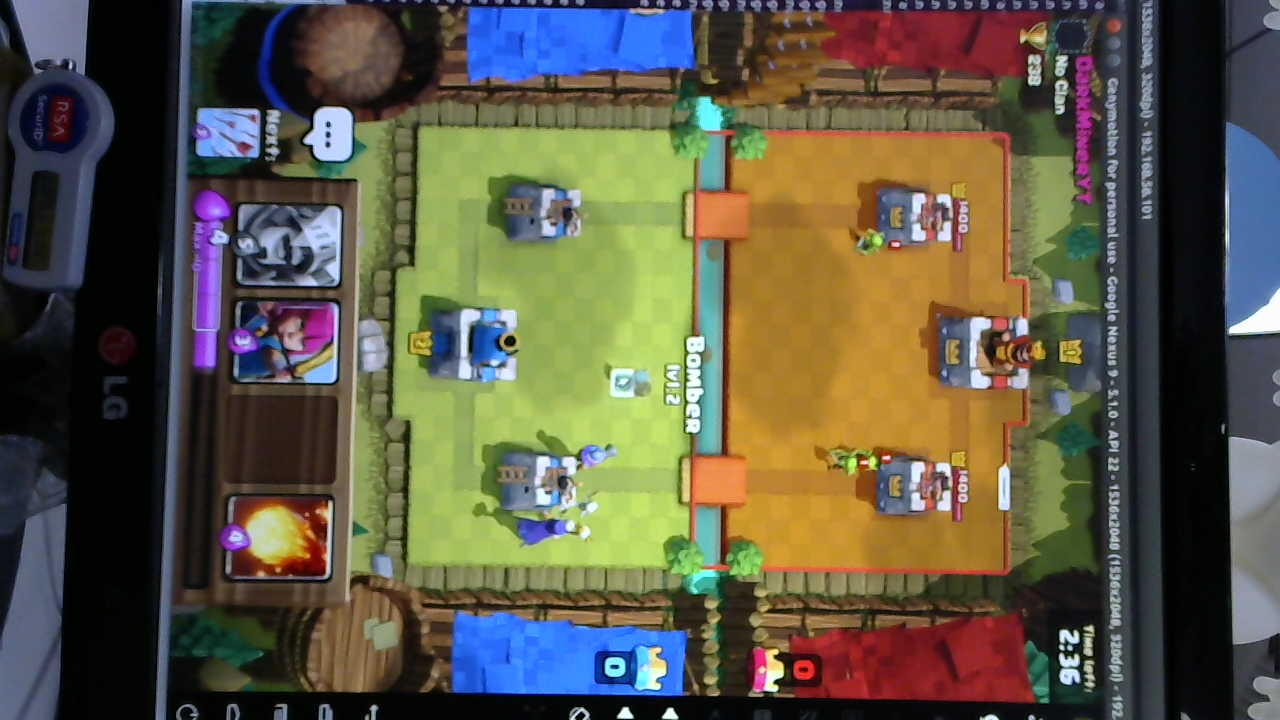arena: (496, 446, 578, 515), (502, 179, 586, 245)
earena: (873, 448, 962, 516), (874, 188, 956, 250)
eking: (944, 315, 1051, 388)
goblin: (848, 227, 890, 256)
goblins: (818, 445, 890, 478)
king: (428, 302, 520, 387)
musketeer: (567, 441, 619, 474)
witch: (511, 515, 582, 546)
